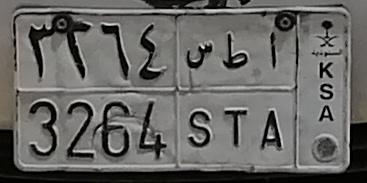2: (65, 20, 96, 160)
3: (27, 23, 59, 160)
4: (137, 22, 168, 161)
6: (99, 21, 133, 157)
A: (260, 31, 285, 152)
S: (186, 40, 216, 148)
T: (222, 30, 249, 147)
